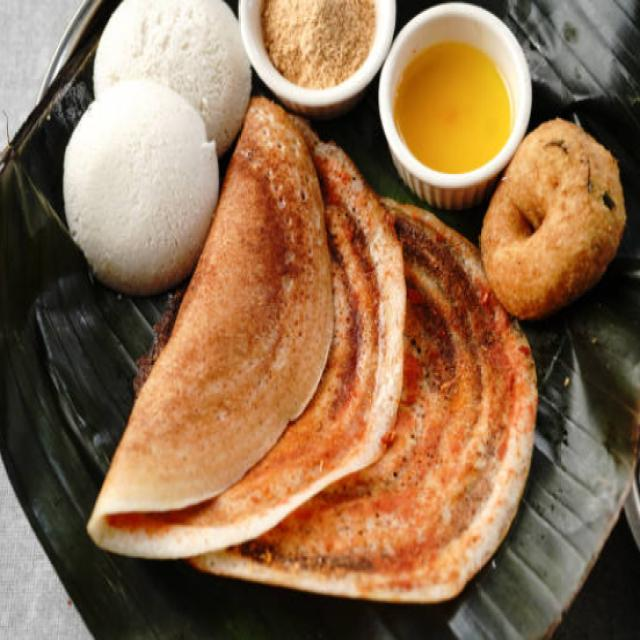dosa: (200, 108, 485, 583)
